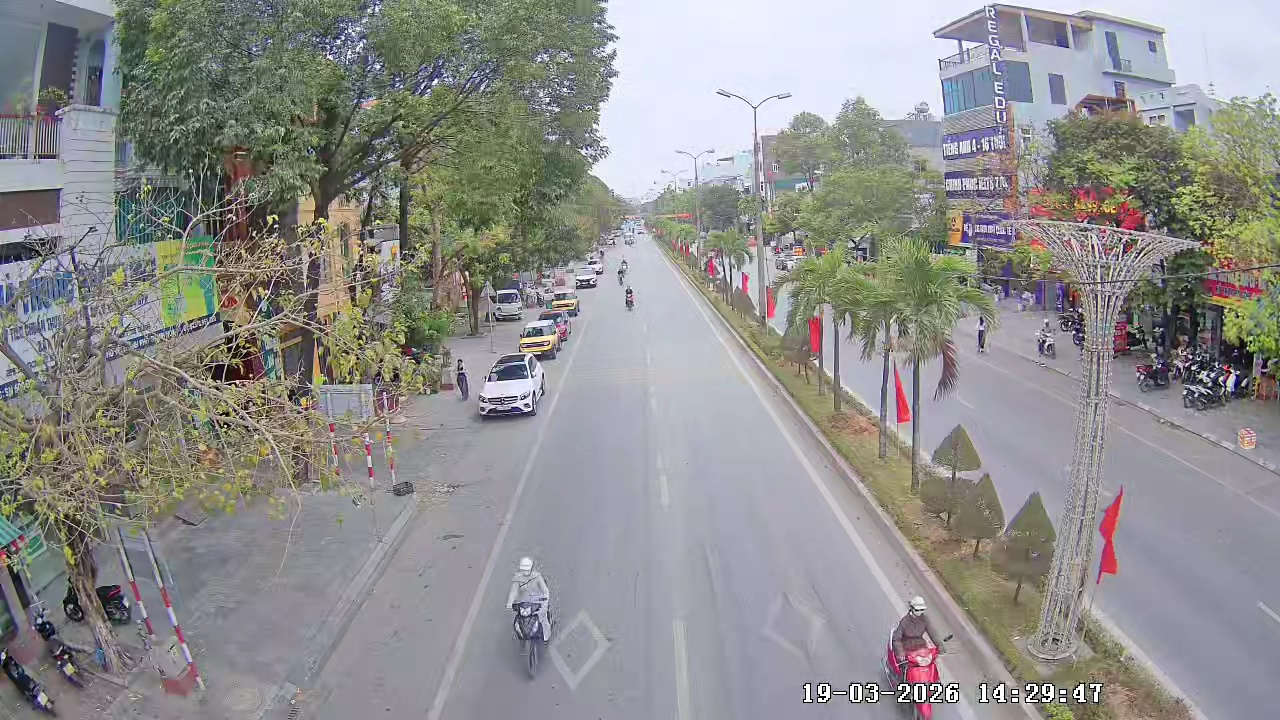bike: (503, 554, 560, 679)
car: (475, 353, 546, 419), (518, 314, 564, 360), (489, 283, 526, 322), (551, 286, 580, 318), (574, 266, 600, 291)
motorbike: (882, 594, 956, 717), (453, 354, 470, 400), (975, 319, 990, 353), (622, 282, 637, 310)
